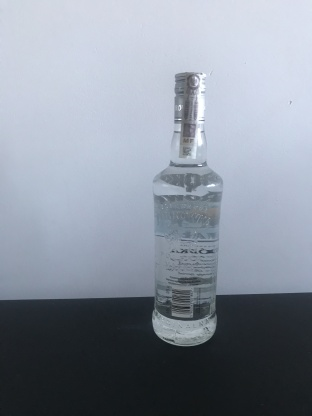nakretka: (172, 69, 208, 127)
